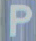Parking: (6, 2, 32, 37)
